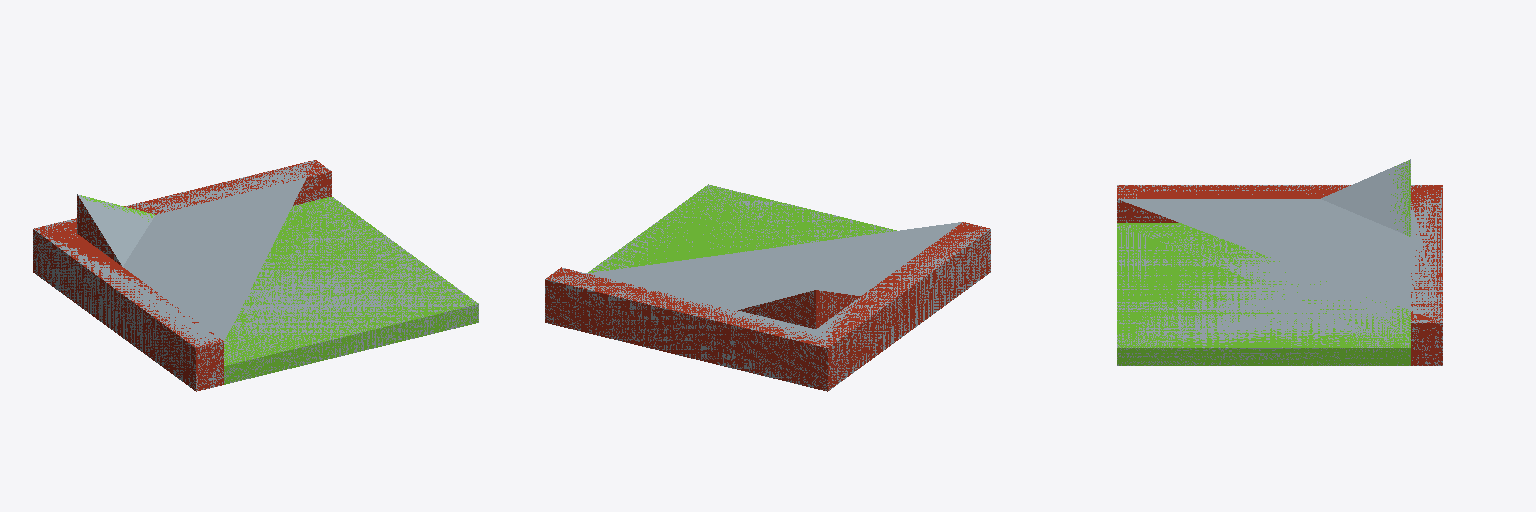
The model's file is Hill_corner_01.obj.
3 views of the same model, side by side, from view 1: azimuth 30°, elevation 25°; view 2: azimuth 150°, elevation 25°; view 3: azimuth 270°, elevation 25° (orthographic).
Parts seen in each view (by area): view 1: Mesh1 Hill_corner Model; view 2: Mesh1 Hill_corner Model; view 3: Mesh1 Hill_corner Model.
Part boxes in pixels (bbox=[...]): Mesh1 Hill_corner Model: bbox=[33, 160, 478, 391]; Mesh1 Hill_corner Model: bbox=[545, 184, 990, 391]; Mesh1 Hill_corner Model: bbox=[1117, 159, 1442, 365].
Size of the model in its own units: 3 by 0.84 by 3.